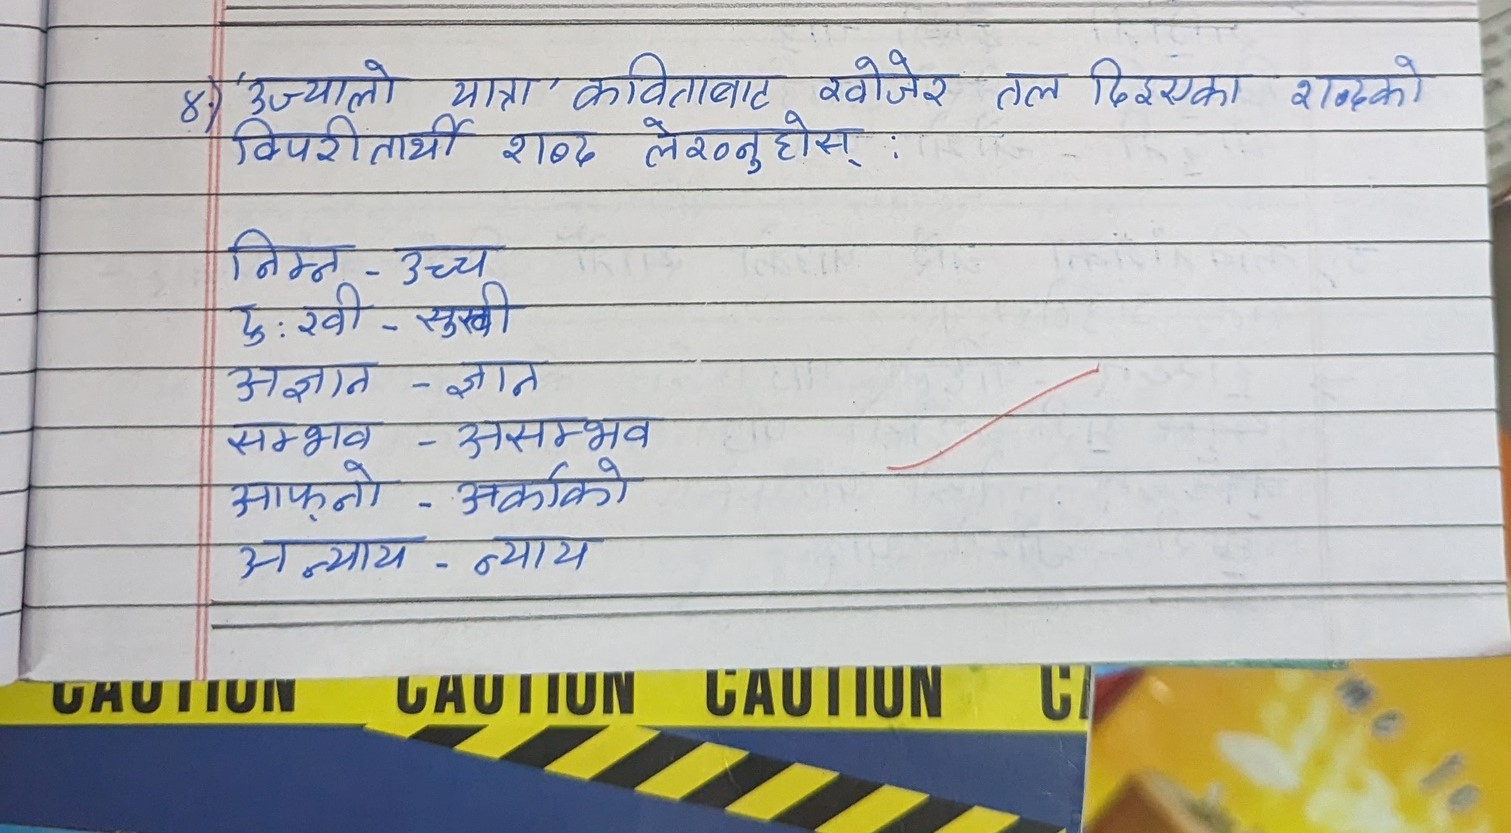text: (632, 111, 870, 185), (230, 110, 470, 172), (207, 458, 404, 525), (562, 51, 774, 111), (443, 457, 644, 513), (232, 532, 417, 591), (444, 409, 669, 457), (1086, 51, 1240, 116), (242, 54, 401, 116), (223, 284, 367, 350), (812, 46, 954, 110), (1286, 54, 1430, 110), (464, 526, 598, 585), (221, 229, 349, 285), (224, 360, 382, 404), (410, 281, 526, 341), (226, 415, 380, 457), (393, 235, 504, 283), (440, 355, 550, 402), (499, 127, 596, 179), (437, 64, 530, 110), (162, 65, 220, 140), (986, 60, 1065, 113)
